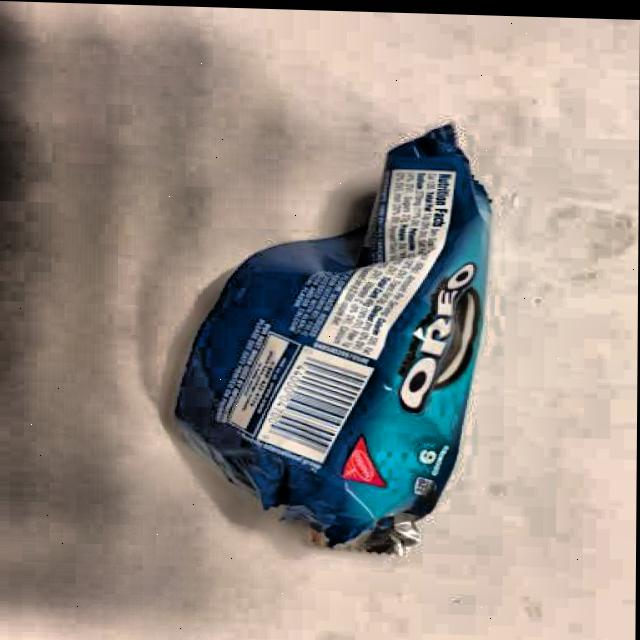trash: (155, 112, 498, 563)
